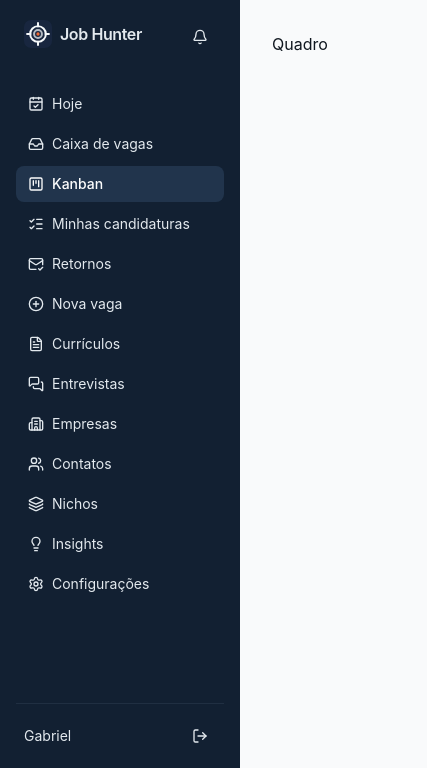
it: AppLayout › ao voltar para a tela inicial, também move o foco para a região principal
Step 1. Click the link "Empresas" → (73, 424), box [28,415,117,432]
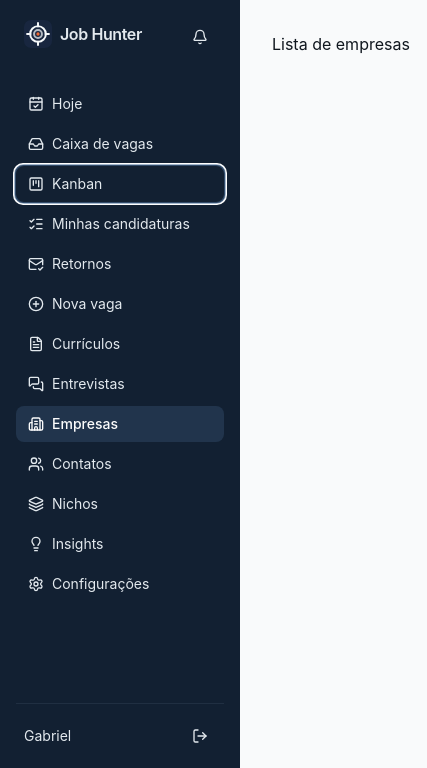
Check: the heading "Lista de empresas" is shown, box [272,34,410,54]
Step 2. Click the link "Kanban" → (65, 184), box [28,175,102,192]
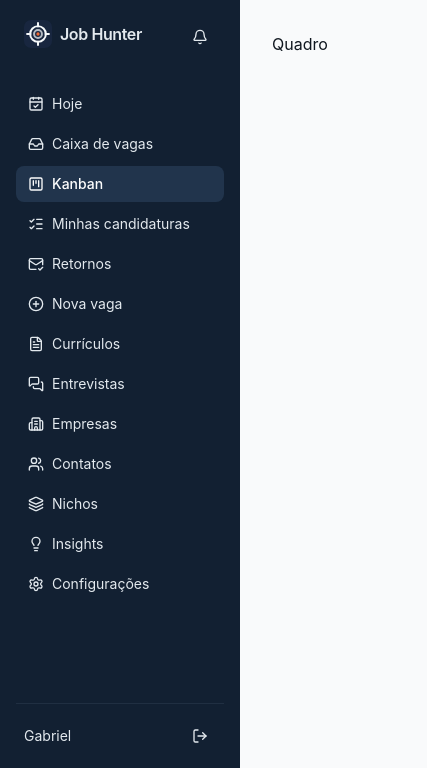
Check: the heading "Quadro" is shown, box [272,34,328,54]
